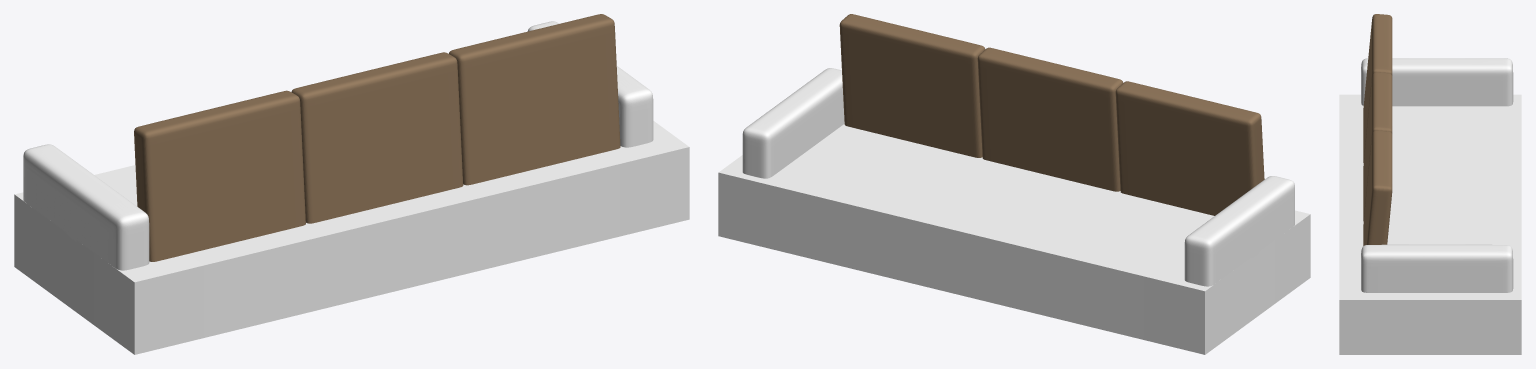
3 renders of one model, left to right at view 1: azimuth 30°, elevation 25°; view 2: azimuth 150°, elevation 25°; view 3: azimuth 270°, elevation 25°, orthographic. The views are drawn at different scales.
Visible parts, largest first — view 1: object 1, MainCouch_BackCushion_1, MainCouch_BackCushion_2, MainCouch_BackCushion_3, MainCouch_Armrest_Left, MainCouch_Armrest_Right; view 2: object 1, MainCouch_BackCushion_2, MainCouch_BackCushion_3, MainCouch_BackCushion_1, MainCouch_Armrest_Left, MainCouch_Armrest_Right; view 3: object 1, MainCouch_Armrest_Right, MainCouch_Armrest_Left, MainCouch_BackCushion_3, MainCouch_BackCushion_1, MainCouch_BackCushion_2.
Boxes of the visible parts, x1=… form: object 1: x1=14, y1=121, x2=689, y2=354; MainCouch_BackCushion_1: x1=134, y1=90, x2=305, y2=261; MainCouch_BackCushion_2: x1=291, y1=52, x2=463, y2=223; MainCouch_BackCushion_3: x1=449, y1=14, x2=620, y2=185; MainCouch_Armrest_Left: x1=23, y1=144, x2=149, y2=270; MainCouch_Armrest_Right: x1=527, y1=21, x2=653, y2=147; object 1: x1=718, y1=124, x2=1310, y2=354; MainCouch_BackCushion_2: x1=977, y1=47, x2=1123, y2=191; MainCouch_BackCushion_3: x1=839, y1=14, x2=985, y2=157; MainCouch_BackCushion_1: x1=1115, y1=81, x2=1264, y2=215; MainCouch_Armrest_Left: x1=1184, y1=176, x2=1294, y2=286; MainCouch_Armrest_Right: x1=742, y1=68, x2=844, y2=178; object 1: x1=1339, y1=94, x2=1521, y2=354; MainCouch_Armrest_Right: x1=1361, y1=244, x2=1513, y2=292; MainCouch_Armrest_Left: x1=1361, y1=58, x2=1513, y2=106; MainCouch_BackCushion_3: x1=1363, y1=130, x2=1392, y2=245; MainCouch_BackCushion_1: x1=1363, y1=14, x2=1392, y2=162; MainCouch_BackCushion_2: x1=1363, y1=72, x2=1392, y2=220.
Bounding box in the file's own units: 5.17 × 1.75 × 1.94.
